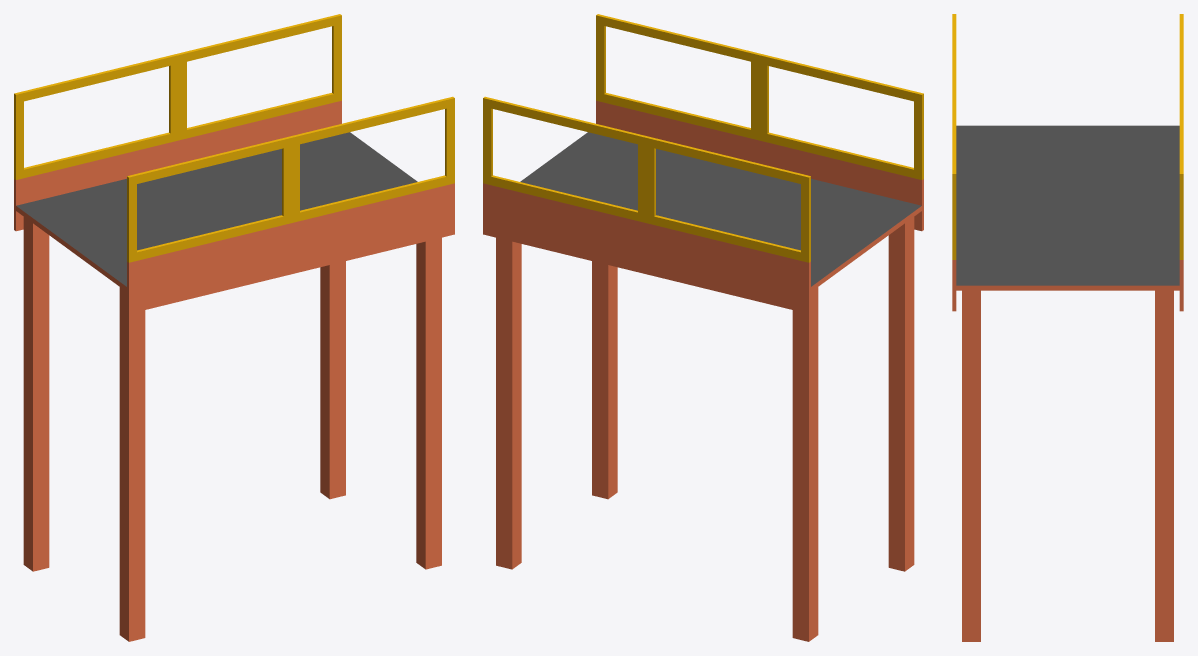
File: Prop_Industrial_Platform_Walkway_Narrow_Straight_01.FBX
3 views of the same model, side by side, from view 1: azimuth 30°, elevation 25°; view 2: azimuth 150°, elevation 25°; view 3: azimuth 270°, elevation 25° (orthographic).
Visible parts, largest first — view 1: Prop_Industrial_Platform_Walkway_Narrow_Straight_01; view 2: Prop_Industrial_Platform_Walkway_Narrow_Straight_01; view 3: Prop_Industrial_Platform_Walkway_Narrow_Straight_01.
Part boxes in pixels (x1,y1,x2,y2): Prop_Industrial_Platform_Walkway_Narrow_Straight_01: [14, 14, 454, 641]; Prop_Industrial_Platform_Walkway_Narrow_Straight_01: [483, 14, 923, 641]; Prop_Industrial_Platform_Walkway_Narrow_Straight_01: [952, 14, 1183, 641].
Size of the model in its own units: 4000 by 5500 by 2440.
